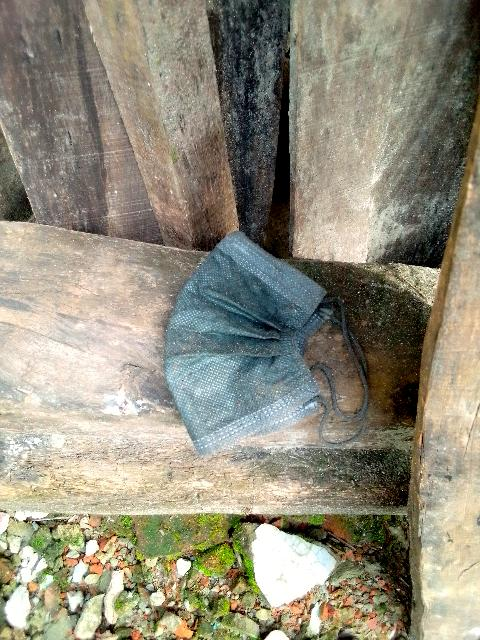mask: (171, 247, 277, 450)
